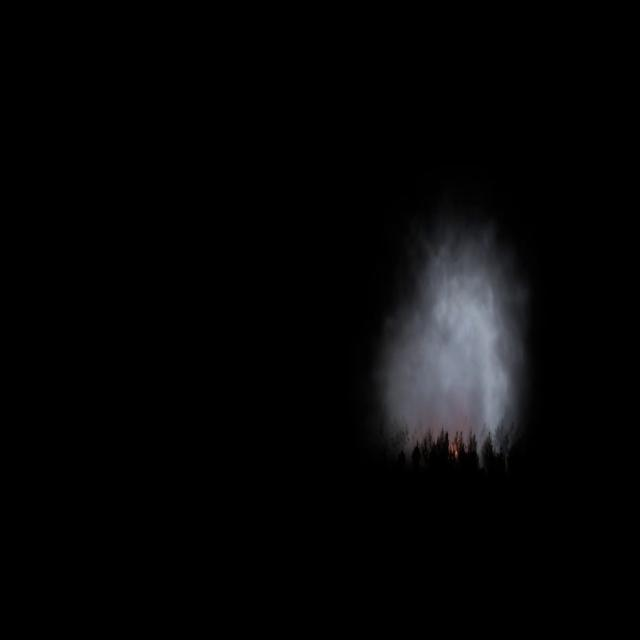smoke: (371, 185, 537, 463)
